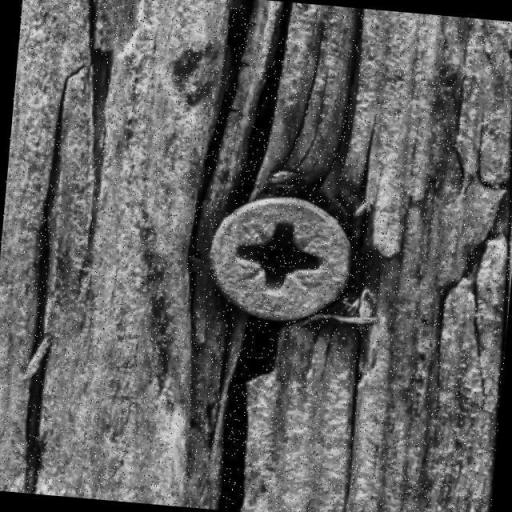Pozidriv: (200, 183, 358, 325)
